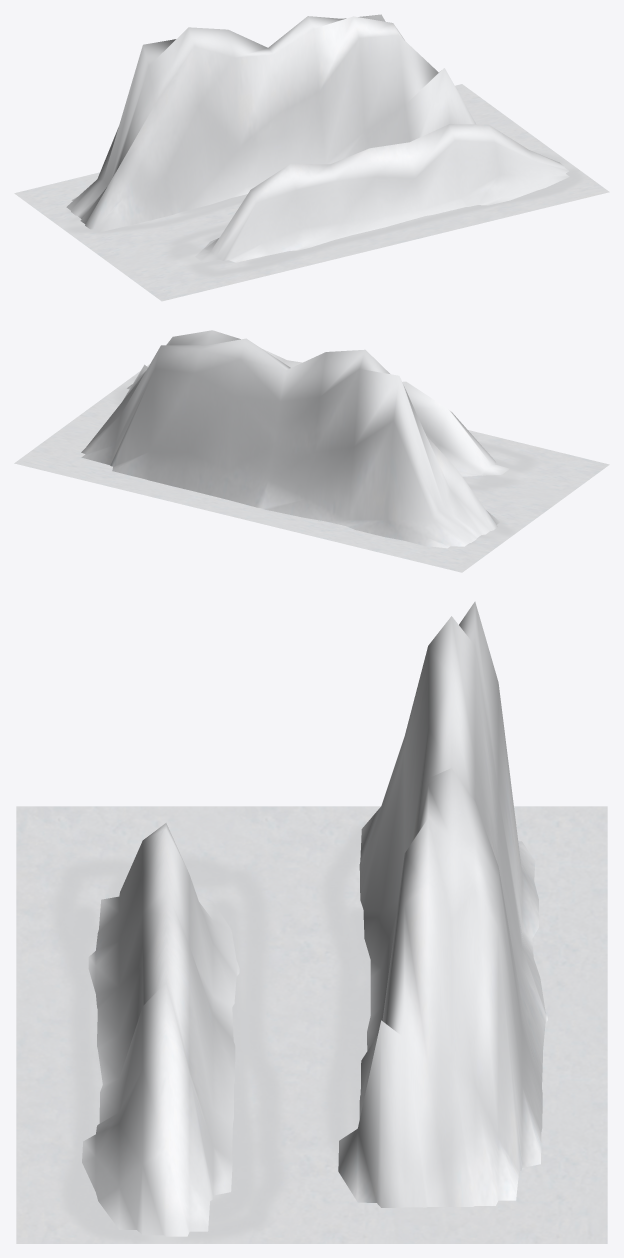
File: mountain02.FBX
3 renders of one model, top to bottom at view 1: azimuth 30°, elevation 25°; view 2: azimuth 150°, elevation 25°; view 3: azimuth 270°, elevation 25°, orthographic. The views are drawn at different scales.
Visible parts, largest first — view 1: RU3; view 2: RU3; view 3: RU3.
Part boxes in pixels (bbox=[...]): RU3: bbox=[14, 14, 609, 301]; RU3: bbox=[14, 330, 609, 572]; RU3: bbox=[16, 601, 607, 1243].
Size of the model in its own units: 700 by 241 by 400.
Materials: 1 (1 with a texture image).
